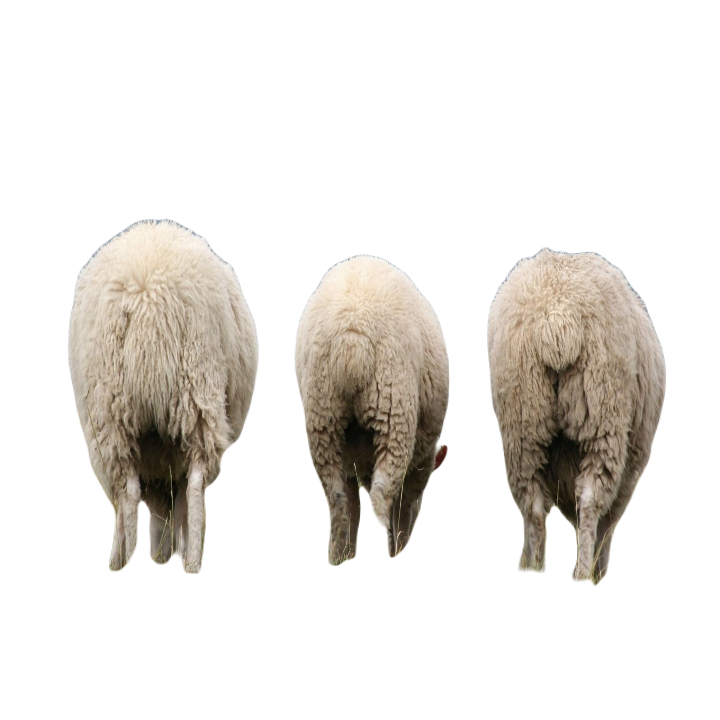Sheep: (60, 209, 261, 573), (484, 243, 669, 586), (289, 252, 451, 568)
